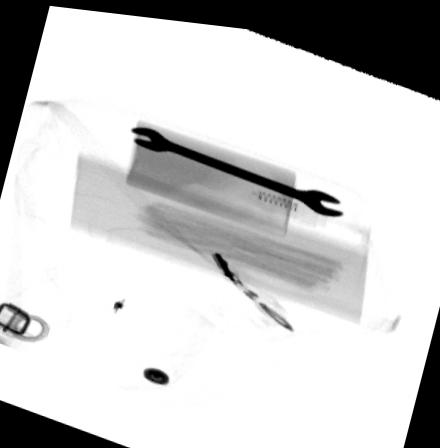Wrench: (130, 122, 346, 210)
